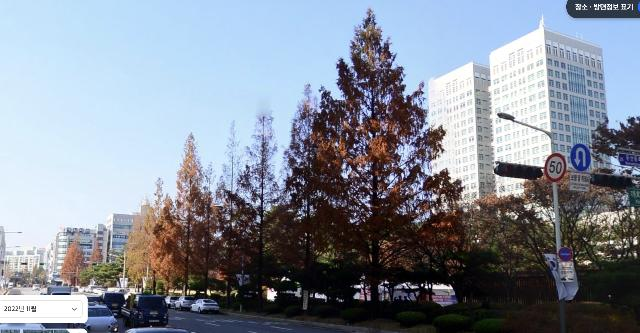other: (311, 6, 464, 319), (280, 81, 344, 314), (453, 172, 548, 303), (578, 109, 640, 302), (237, 109, 287, 311), (393, 212, 487, 309), (167, 131, 214, 301), (215, 118, 252, 308), (145, 177, 183, 298), (125, 195, 159, 294), (59, 232, 86, 292), (87, 238, 105, 282)
